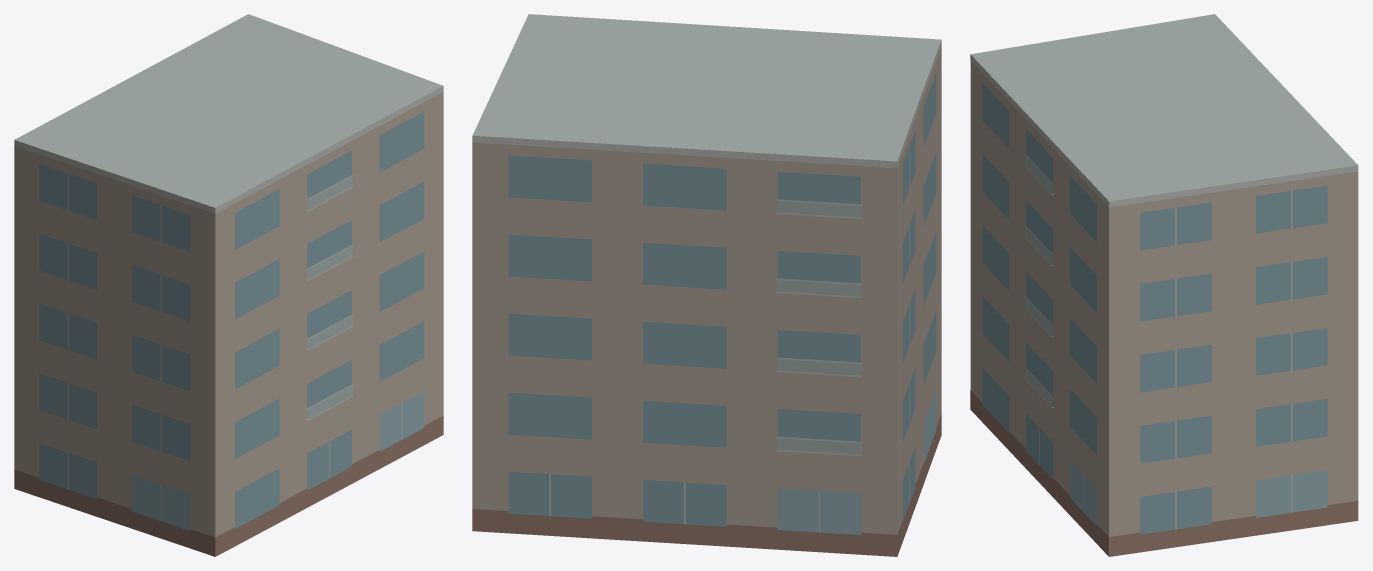
File: survey-upis-32933192.glb
3 renders of one model, left to right at view 1: azimuth 30°, elevation 25°; view 2: azimuth 150°, elevation 25°; view 3: azimuth 270°, elevation 25°, orthographic. The views are drawn at different scales.
Parts seen in each view (by area): view 1: survey-upis-32933192.tmp; view 2: survey-upis-32933192.tmp; view 3: survey-upis-32933192.tmp.
Boxes of the visible parts, left/top/right/bottom form: survey-upis-32933192.tmp: left=14, top=14, right=443, bottom=556; survey-upis-32933192.tmp: left=472, top=14, right=941, bottom=556; survey-upis-32933192.tmp: left=970, top=14, right=1358, bottom=556.
Bounding box in the file's own units: 16.31 × 14.4 × 14.26.
